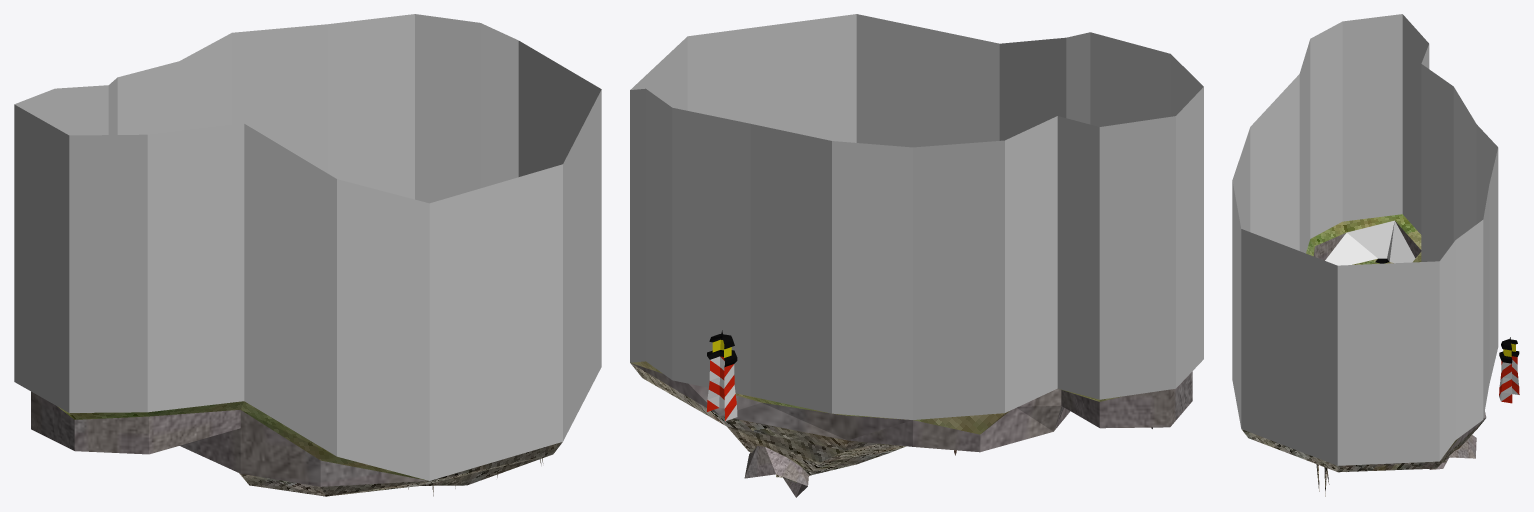
Rendered from drip_drum_beach_PREISLAND1.fbx.
The picture shows the model from 3 angles, left to right: view 1: azimuth 30°, elevation 25°; view 2: azimuth 150°, elevation 25°; view 3: azimuth 270°, elevation 25°; orthographic projection. The views are drawn at different scales.
Visible parts, largest first — view 1: invisible oob, world; view 2: invisible oob, world, lighthouse, boulder; view 3: invisible oob, world, cobweb, lighthouse, boulder.
Boxes of the visible parts, x1,y1,x2,y2 form: invisible oob: (14,14,601,480); world: (31,391,562,496); invisible oob: (630,14,1203,419); world: (630,361,1192,482); lighthouse: (707,330,737,421); boulder: (744,446,808,497); invisible oob: (1232,14,1498,465); world: (1241,214,1486,472); cobweb: (1325,220,1415,265); lighthouse: (1499,337,1519,403); boulder: (1429,435,1476,469).
Bounding box in the file's own units: 16.32 × 10.37 × 13.11.
